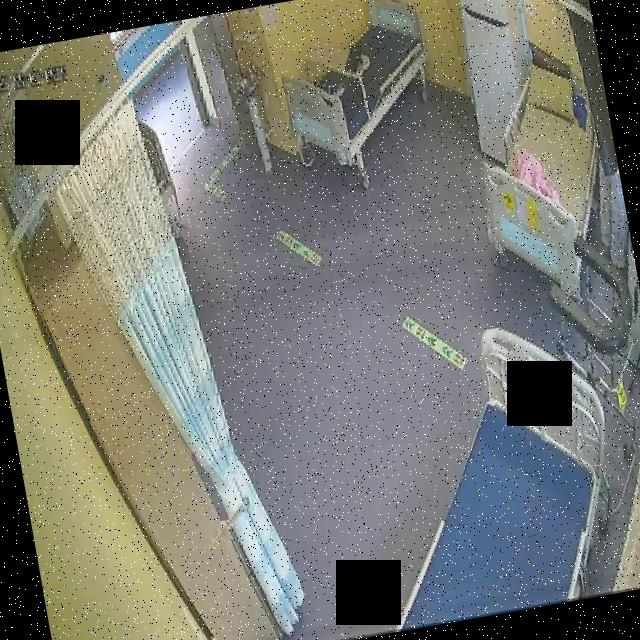bed: (348, 312, 634, 629), (456, 46, 622, 294), (268, 0, 445, 176)
